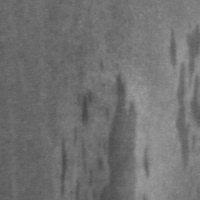inclusion: (91, 70, 153, 200), (166, 22, 199, 171), (58, 133, 97, 200), (72, 87, 98, 131)
